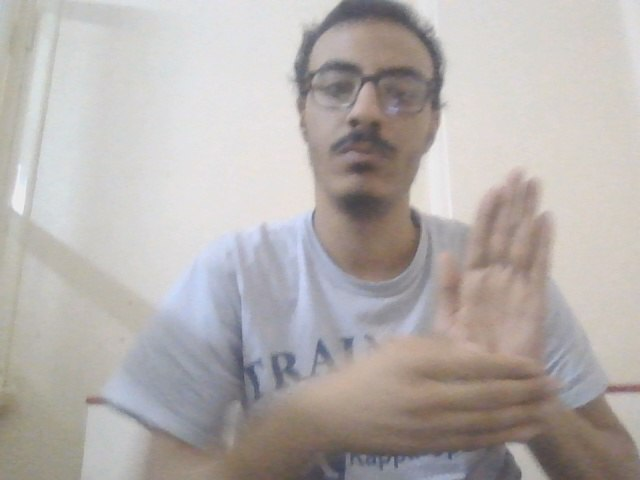Movie: (319, 167, 592, 462)
